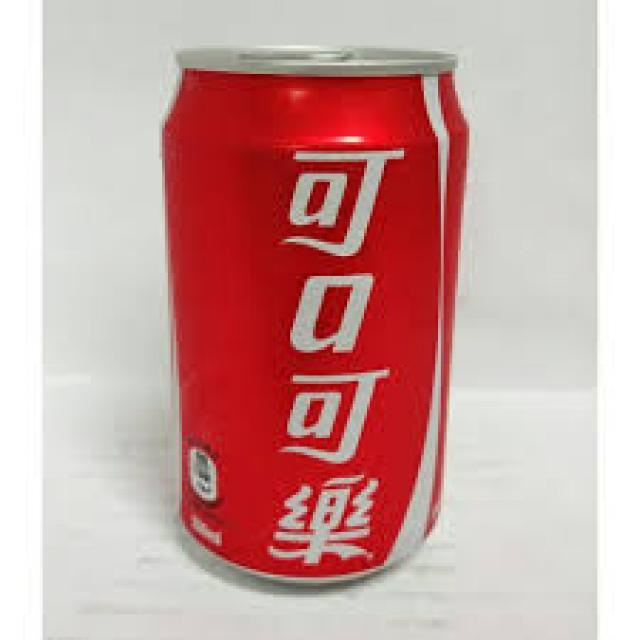recyclable: (158, 48, 474, 582)
